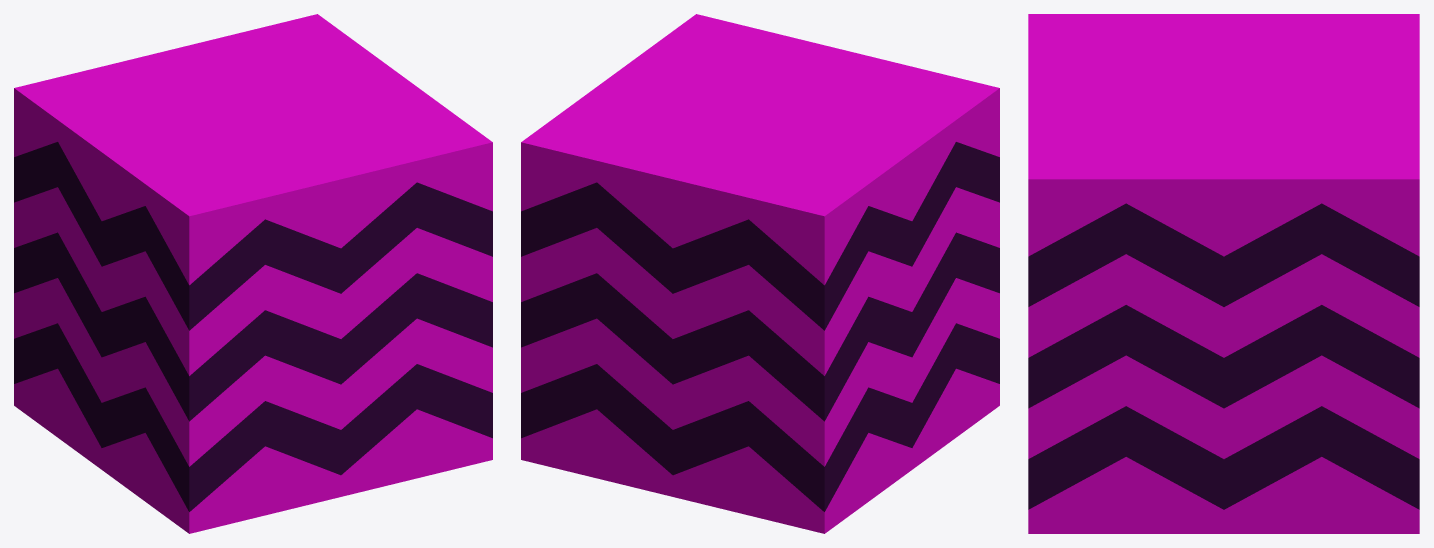
Rendered from Cube_ZigZag.fbx.
The picture shows the model from 3 angles, left to right: view 1: azimuth 30°, elevation 25°; view 2: azimuth 150°, elevation 25°; view 3: azimuth 270°, elevation 25°; orthographic projection. The views are drawn at different scales.
Parts seen in each view (by area): view 1: Cube; view 2: Cube; view 3: Cube.
Boxes of the visible parts, x1,y1,x2,y2 form: Cube: (14,14,492,533); Cube: (521,14,999,533); Cube: (1028,14,1419,533).
Bounding box in the file's own units: 200 × 200 × 200.
